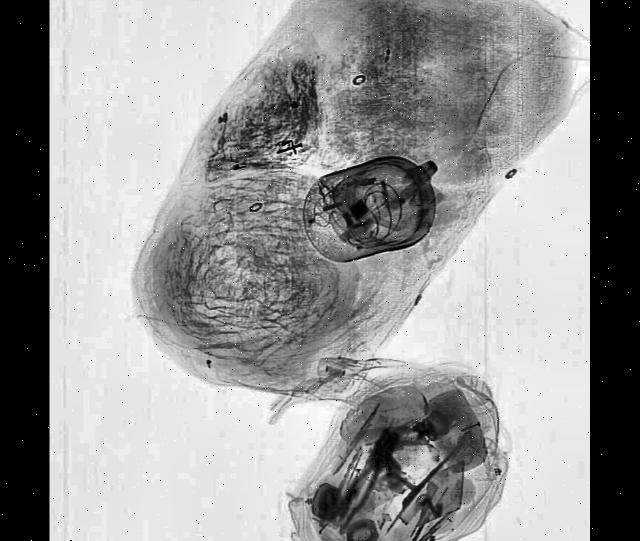Pliers: (328, 424, 403, 541)
